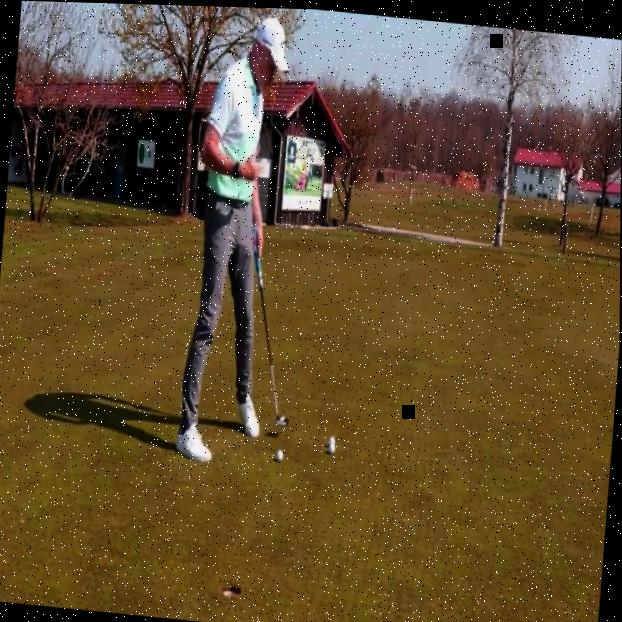GolfBall: (270, 440, 289, 465), (324, 438, 338, 457), (326, 430, 340, 444)
